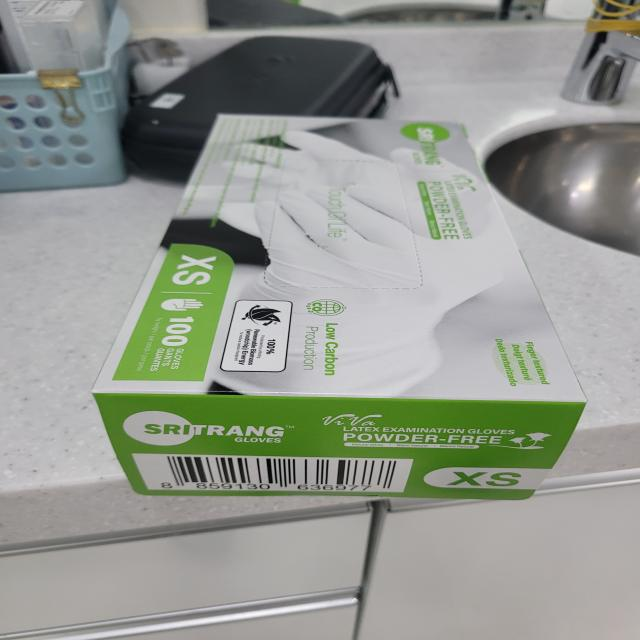glove: (86, 91, 601, 521)
